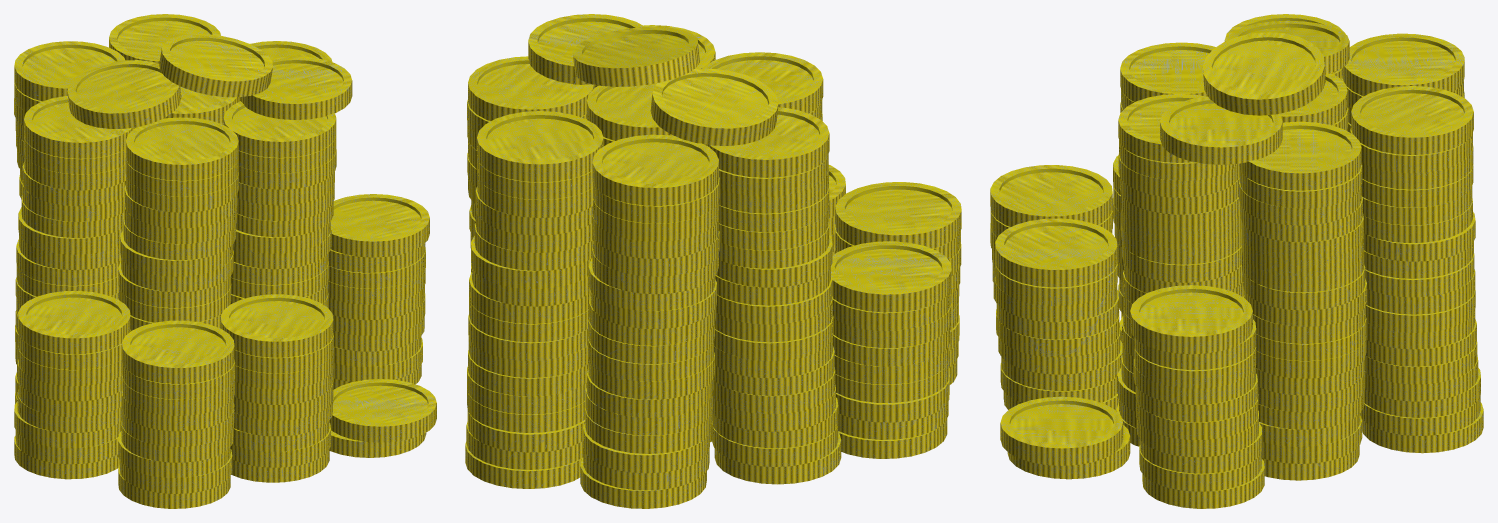
File: Money.dae
3 views of the same model, side by side, from view 1: azimuth 30°, elevation 25°; view 2: azimuth 150°, elevation 25°; view 3: azimuth 270°, elevation 25° (orthographic). The views are drawn at different scales.
Parts seen in each view (by area): view 1: Gold_Coin (×101); view 2: Gold_Coin (×92); view 3: Gold_Coin (×98).
Boxes of the visible parts, x1,y1,x2,y2 form: Gold_Coin (×101): (14, 14, 436, 508); Gold_Coin (×92): (465, 14, 961, 508); Gold_Coin (×98): (990, 14, 1483, 508).
Bounding box in the file's own units: 11.02 × 10.69 × 8.67.
